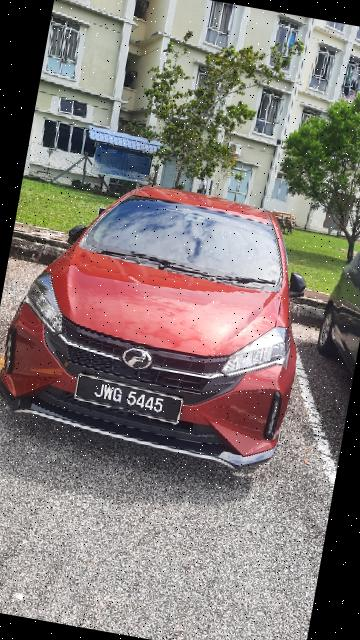License_Plate: (68, 368, 190, 430)
car: (1, 152, 340, 483)
